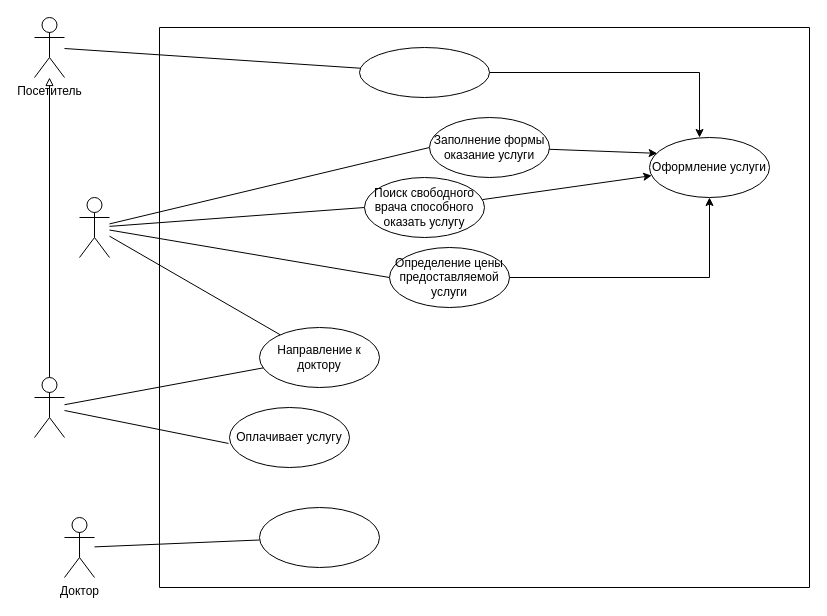
The diagram is 827 pixels wide and 616 high, and some of its shapes have lost their labels. The centre of each missing label's shape, as x and y in pixels:
Выполняет услугу: [319,537]
Описывает какая услуга нужна: [424,72]
Пациент: [49,407]
Регистратор: [94,227]
